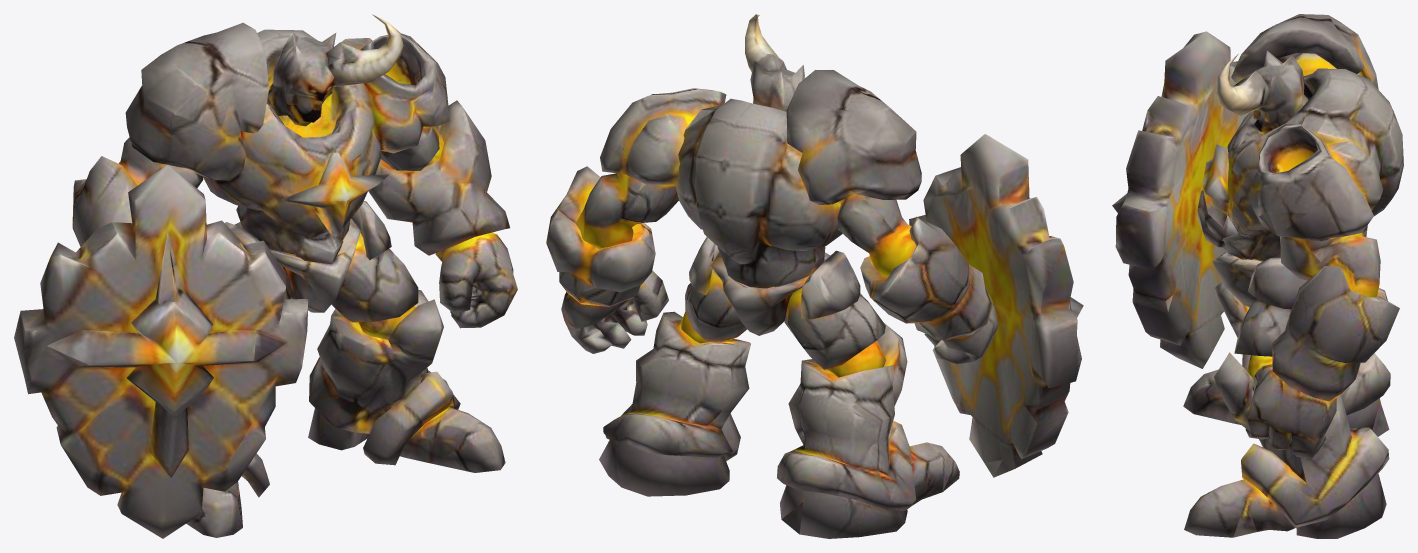
Rendered from horned_warden.glb.
3 renders of one model, left to right at view 1: azimuth 30°, elevation 25°; view 2: azimuth 150°, elevation 25°; view 3: azimuth 270°, elevation 25°, orthographic. The views are drawn at different scales.
Size of the model in its own units: 1.9 by 1.64 by 1.
Materials: 1 (1 with a texture image).
